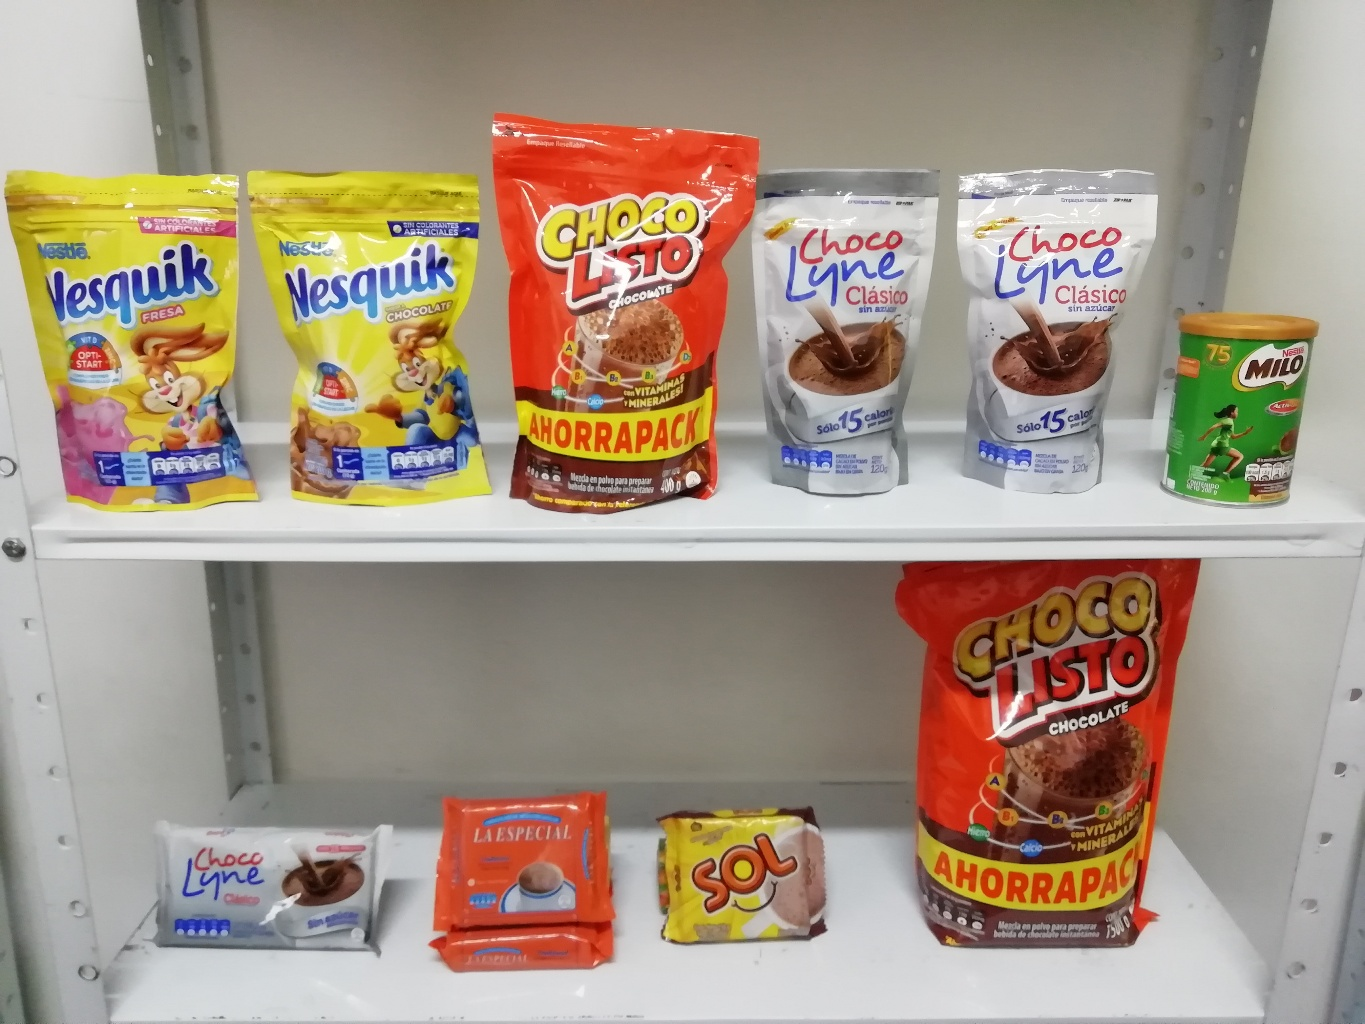COL0170103DYP1,500: (890, 552, 1205, 958)
COL0170103DYP40000: (479, 102, 768, 524)
COL0170203LAT20000: (1174, 301, 1330, 520)
COL0170303DYP20000: (244, 158, 501, 513)
COL0170305DYP20000: (4, 165, 265, 520)
